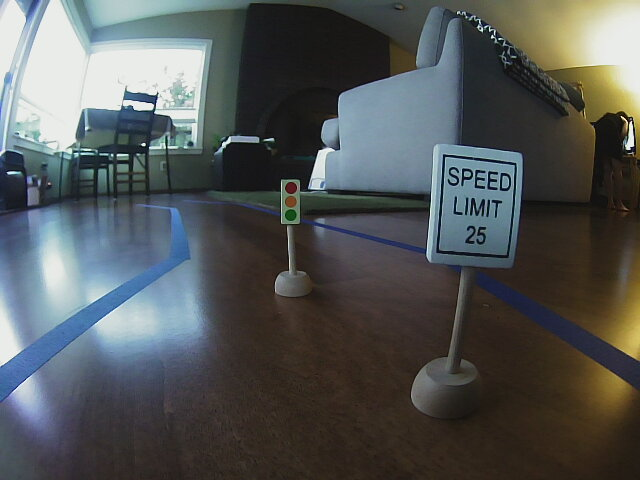SpeedLimit25: (432, 143, 518, 270)
TrafficLight: (281, 175, 301, 226)
